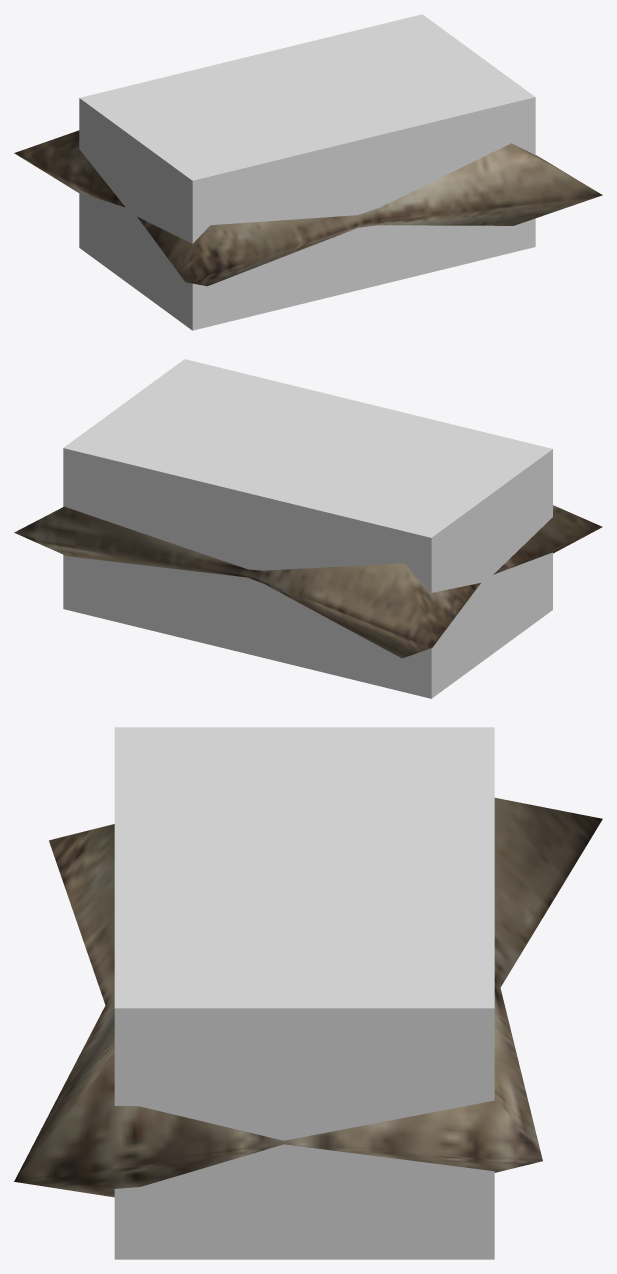
File: YHJ_midai.FBX
3 views of the same model, one above another, from view 1: azimuth 30°, elevation 25°; view 2: azimuth 150°, elevation 25°; view 3: azimuth 270°, elevation 25° (orthographic). The views are drawn at different scales.
Parts seen in each view (by area): view 1: YHJ_midai-col, YHJ_midai; view 2: YHJ_midai-col, YHJ_midai; view 3: YHJ_midai-col, YHJ_midai.
Boxes of the visible parts, bbox=[...] form: YHJ_midai-col: bbox=[79, 14, 535, 330]; YHJ_midai: bbox=[14, 130, 602, 286]; YHJ_midai-col: bbox=[63, 359, 552, 698]; YHJ_midai: bbox=[14, 505, 602, 658]; YHJ_midai-col: bbox=[114, 727, 494, 1259]; YHJ_midai: bbox=[14, 797, 602, 1197].
Bounding box in the file's own units: 1.25 × 0.4507 × 0.9163.
